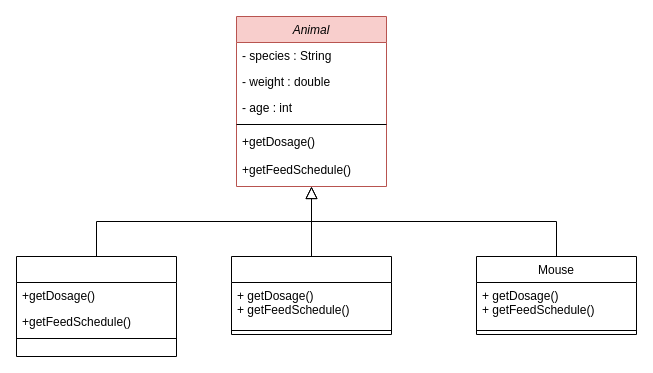
Some shapes in this 653 by 373 pixel diagram are drawn without their labels. Here are the shapes that lost their labels. From the top down, the box of each, then its label:
(16, 256, 176, 356): Horse
(230, 256, 392, 334): Lion
